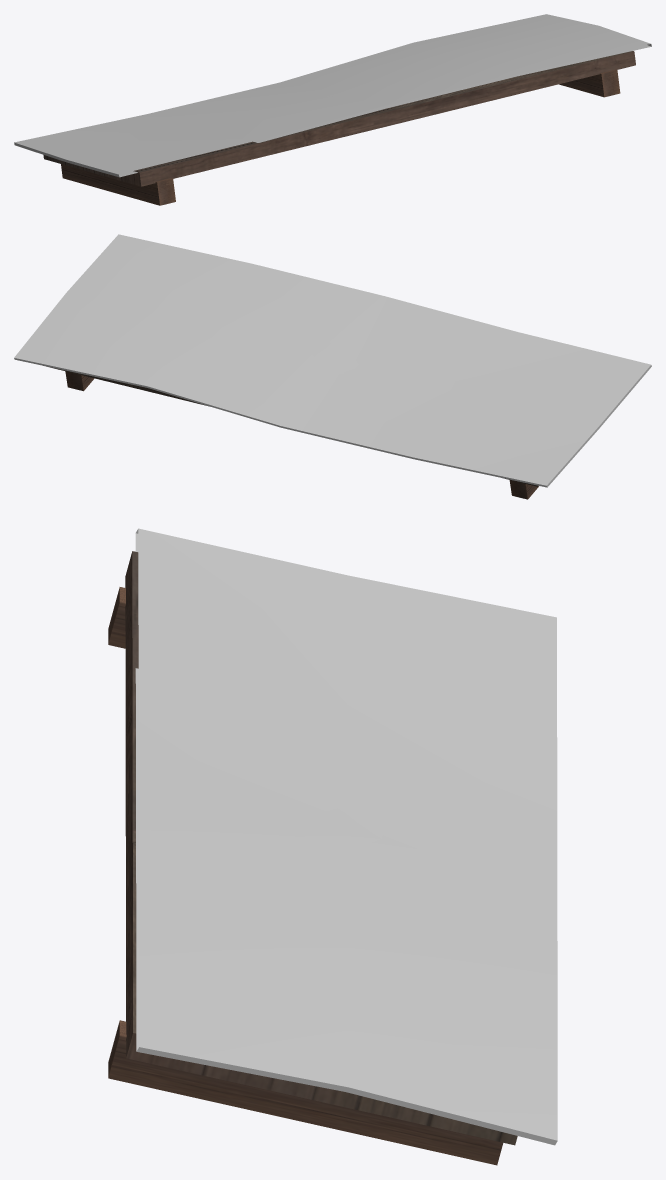
File: jovhouse_sunshade02bc.fbx
The picture shows the model from 3 angles, top to bottom: view 1: azimuth 30°, elevation 25°; view 2: azimuth 150°, elevation 25°; view 3: azimuth 270°, elevation 25°; orthographic projection. The views are drawn at different scales.
Parts seen in each view (by area): view 1: jovhouse_sunshade02bc; view 2: jovhouse_sunshade02bc; view 3: jovhouse_sunshade02bc.
Boxes of the visible parts, x1,y1,x2,y2 form: jovhouse_sunshade02bc: (14, 14, 651, 205); jovhouse_sunshade02bc: (14, 234, 651, 499); jovhouse_sunshade02bc: (108, 528, 557, 1165).
Bounding box in the file's own units: 274 × 39.9 × 100.
